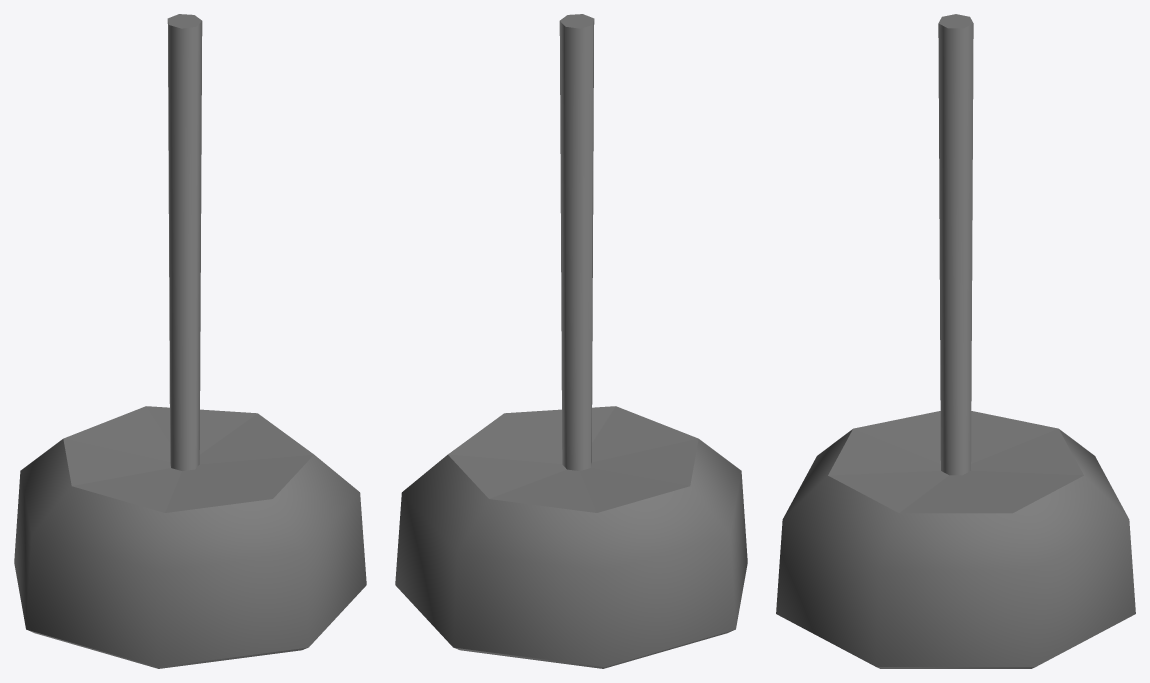
Rendered from Light_Gray.fbx.
The picture shows the model from 3 angles, left to right: view 1: azimuth 30°, elevation 25°; view 2: azimuth 150°, elevation 25°; view 3: azimuth 270°, elevation 25°; orthographic projection.
Visible parts, largest first — view 1: Light_Gray; view 2: Light_Gray; view 3: Light_Gray.
Part boxes in pixels (x1=…): Light_Gray: x1=14, y1=14, x2=366, y2=668; Light_Gray: x1=395, y1=14, x2=747, y2=668; Light_Gray: x1=776, y1=14, x2=1135, y2=668.
Bounding box in the file's own units: 38.74 × 75.18 × 39.74.
